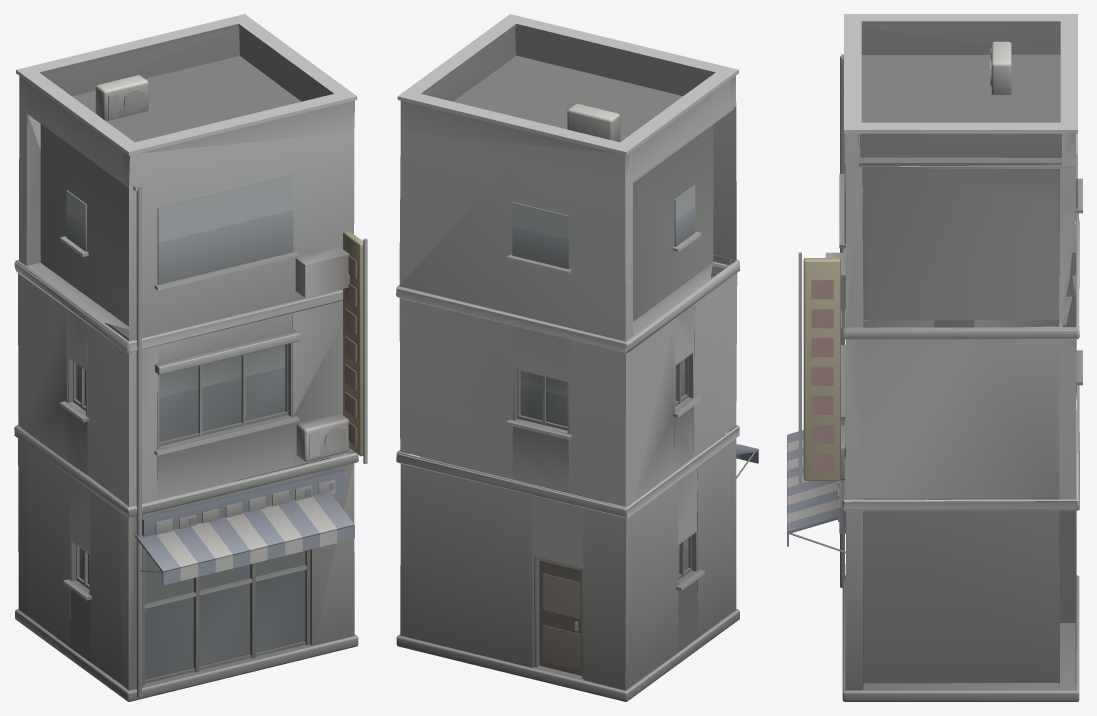
File: shop3.glb
3 renders of one model, left to right at view 1: azimuth 30°, elevation 25°; view 2: azimuth 150°, elevation 25°; view 3: azimuth 270°, elevation 25°, orthographic. The views are drawn at different scales.
Parts seen in each view (by area): view 1: shop3.001; view 2: shop3.001; view 3: shop3.001.
Part boxes in pixels (x1,y1,x2,y2): shop3.001: (14, 14, 367, 701); shop3.001: (396, 14, 758, 701); shop3.001: (787, 14, 1082, 701).
Bounding box in the file's own units: 4.16 × 9.33 × 4.37.
